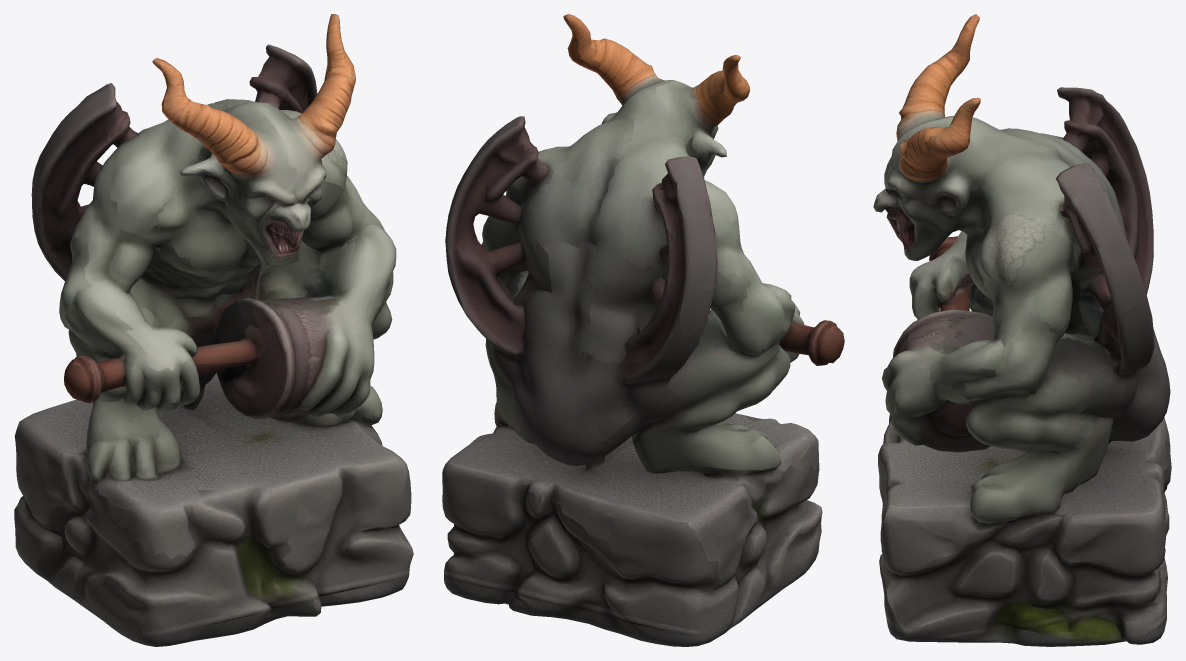
The model's file is oni-guardian.opt.glb.
3 views of the same model, side by side, from view 1: azimuth 30°, elevation 25°; view 2: azimuth 150°, elevation 25°; view 3: azimuth 270°, elevation 25° (orthographic). The views are drawn at different scales.
Bounding box in the file's own units: 1.25 × 1.91 × 0.9667.
Materials: 1 (1 with a texture image).
